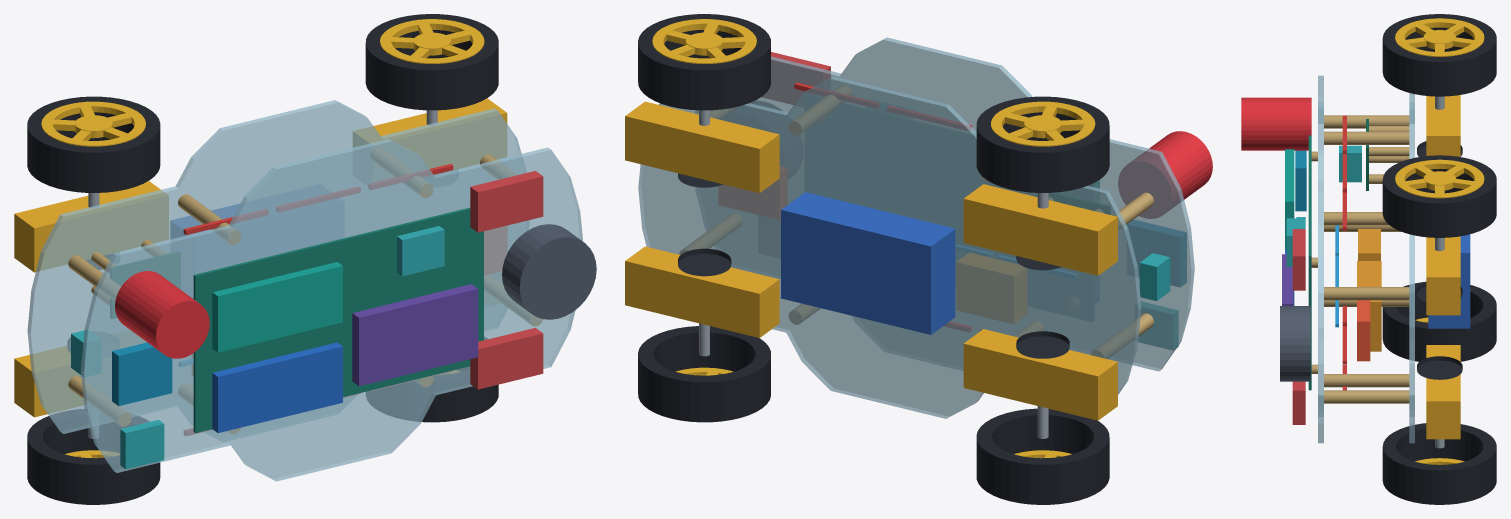
The model's file is aw_car_assembly.obj.
3 renders of one model, left to right at view 1: azimuth 30°, elevation 25°; view 2: azimuth 150°, elevation 25°; view 3: azimuth 270°, elevation 25°, orthographic. The views are drawn at different scales.
Parts seen in each view (by area): view 1: LOWER_NOTCHED_ACRYLIC, UPPER_ACRYLIC, CONTROLLER_CARRIER, FPGA, TT_MOTOR_FRONT_LEFT, TIRE_FRONT_RIGHT, TIRE_REAR_LEFT, TIRE_FRONT_LEFT, MOTION, BRAIN, SPEAKER, TT_MOTOR_REAR_LEFT (+19 smaller); view 2: LOWER_NOTCHED_ACRYLIC, UPPER_ACRYLIC, SEALED_2S1P_PACK, TIRE_FRONT_RIGHT, TIRE_REAR_RIGHT, TT_MOTOR_FRONT_LEFT, TT_MOTOR_REAR_LEFT, TT_MOTOR_FRONT_RIGHT, TT_MOTOR_REAR_RIGHT, TIRE_FRONT_LEFT, TIRE_REAR_LEFT, ESTOP (+14 smaller); view 3: TIRE_REAR_RIGHT, TIRE_FRONT_LEFT, TIRE_REAR_LEFT, TIRE_FRONT_RIGHT, ESTOP, TT_MOTOR_REAR_LEFT, TT_MOTOR_REAR_RIGHT, SPEAKER, UPPER_ACRYLIC, TT_MOTOR_FRONT_LEFT, LOWER_NOTCHED_ACRYLIC, SEALED_2S1P_PACK (+25 smaller).
Part boxes in pixels (bbox=[...]): LOWER_NOTCHED_ACRYLIC: bbox=[27, 100, 529, 441]; UPPER_ACRYLIC: bbox=[80, 139, 583, 481]; CONTROLLER_CARRIER: bbox=[193, 207, 483, 433]; FPGA: bbox=[352, 284, 478, 386]; TT_MOTOR_FRONT_LEFT: bbox=[14, 181, 168, 272]; TIRE_FRONT_RIGHT: bbox=[27, 409, 160, 504]; TIRE_REAR_LEFT: bbox=[365, 14, 498, 110]; TIRE_FRONT_LEFT: bbox=[27, 96, 160, 192]; MOTION: bbox=[212, 262, 342, 352]; BRAIN: bbox=[212, 342, 342, 432]; SPEAKER: bbox=[502, 224, 596, 319]; TT_MOTOR_REAR_LEFT: bbox=[353, 98, 507, 169]; LOWER_NOTCHED_ACRYLIC: bbox=[638, 76, 1141, 418]; UPPER_ACRYLIC: bbox=[695, 37, 1194, 371]; SEALED_2S1P_PACK: bbox=[781, 192, 955, 334]; TIRE_FRONT_RIGHT: bbox=[976, 408, 1109, 504]; TIRE_REAR_RIGHT: bbox=[638, 326, 770, 422]; TT_MOTOR_FRONT_LEFT: bbox=[963, 184, 1117, 275]; TT_MOTOR_REAR_LEFT: bbox=[625, 101, 779, 192]; TT_MOTOR_FRONT_RIGHT: bbox=[963, 329, 1117, 420]; TT_MOTOR_REAR_RIGHT: bbox=[625, 246, 779, 337]; TIRE_FRONT_LEFT: bbox=[976, 96, 1109, 192]; TIRE_REAR_LEFT: bbox=[638, 14, 770, 110]; ESTOP: bbox=[1118, 131, 1212, 218]; TIRE_REAR_RIGHT: bbox=[1382, 423, 1496, 504]; TIRE_FRONT_LEFT: bbox=[1382, 14, 1496, 96]; TIRE_REAR_LEFT: bbox=[1382, 155, 1496, 237]; TIRE_FRONT_RIGHT: bbox=[1382, 281, 1496, 361]; ESTOP: bbox=[1241, 97, 1311, 150]; TT_MOTOR_REAR_LEFT: bbox=[1426, 236, 1460, 315]; TT_MOTOR_REAR_RIGHT: bbox=[1426, 345, 1460, 439]; SPEAKER: bbox=[1280, 306, 1310, 381]; UPPER_ACRYLIC: bbox=[1318, 75, 1323, 443]; TT_MOTOR_FRONT_LEFT: bbox=[1426, 95, 1460, 156]; LOWER_NOTCHED_ACRYLIC: bbox=[1409, 93, 1414, 443]; SEALED_2S1P_PACK: bbox=[1428, 234, 1470, 328].
Size of the model in its own units: 260 by 176 by 134.
